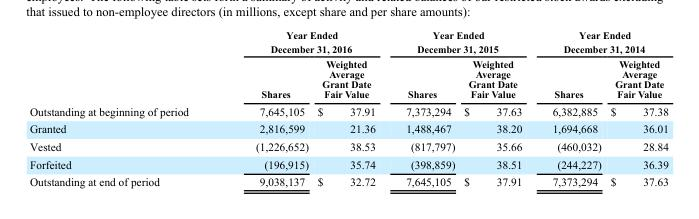table: (28, 29, 667, 187)
table column: (28, 29, 221, 187), (221, 29, 312, 187), (312, 29, 390, 187), (458, 29, 536, 187), (536, 29, 605, 187), (390, 29, 458, 187), (605, 29, 667, 187)
table column header: (28, 29, 667, 102)
table row: (28, 56, 667, 102), (28, 29, 667, 56), (28, 119, 667, 137), (28, 137, 667, 155), (28, 102, 667, 119), (28, 155, 667, 172), (28, 172, 667, 187)
table spanning cell: (221, 29, 390, 56), (390, 29, 536, 56), (536, 29, 667, 56)
